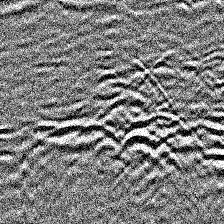cavities: (30, 47, 224, 186)
